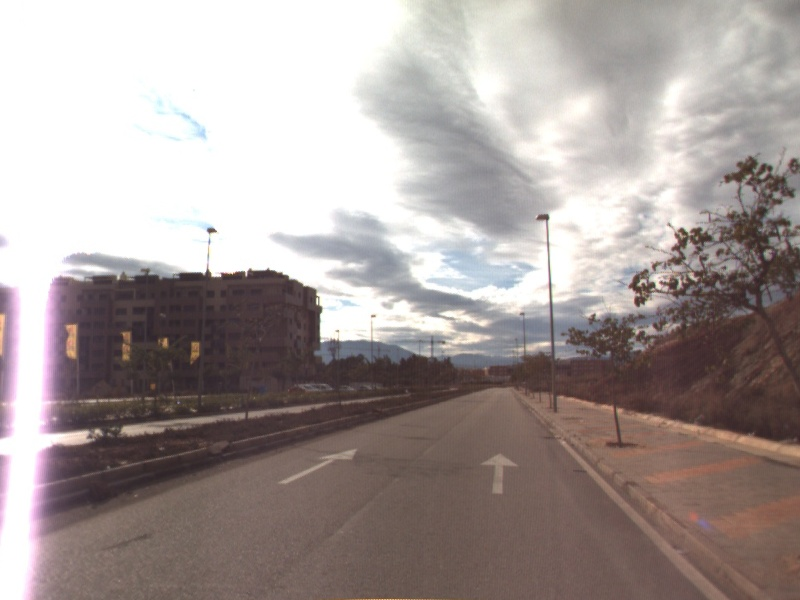STRAIGHT: (276, 446, 360, 486), (478, 451, 522, 496)
